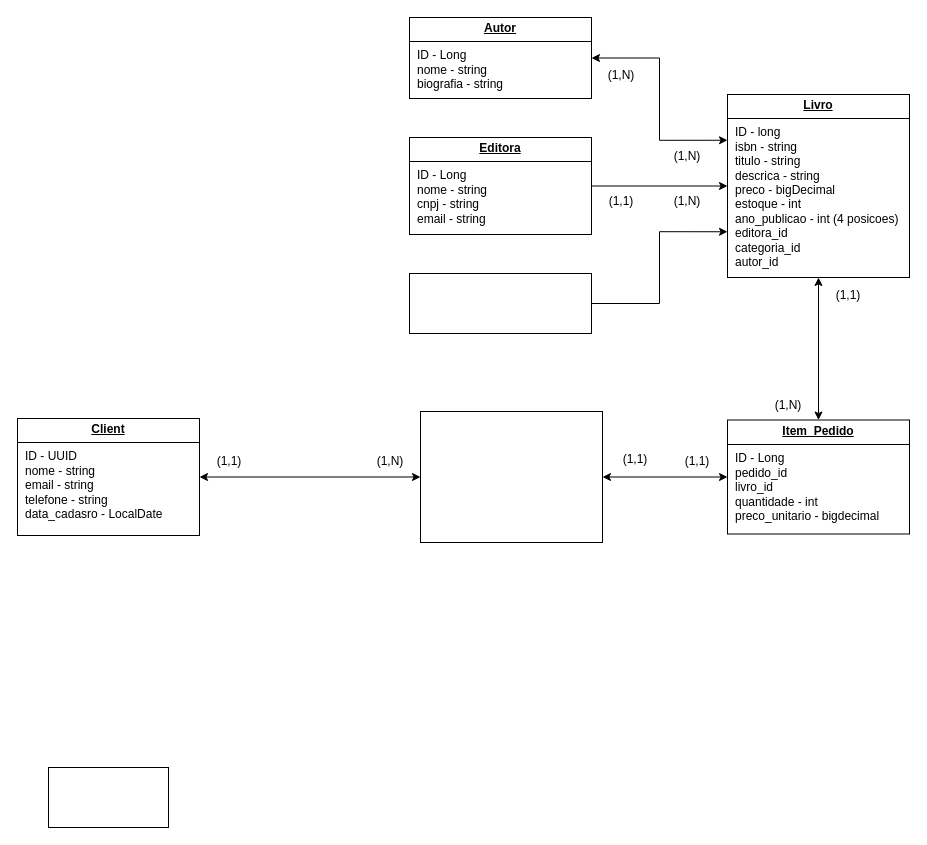
Image size: 927x845. Some labels were removed from this diagram. The shapes that lost their labels are listed below. From the top down, each one's centre as x and y in pixels, then its label:
the point at 500,303: ENUM: Categoria CATEGORIAS
the point at 511,476: Pedido ID - Long cliente_id data_pedido status valor_total forma_pagamento
